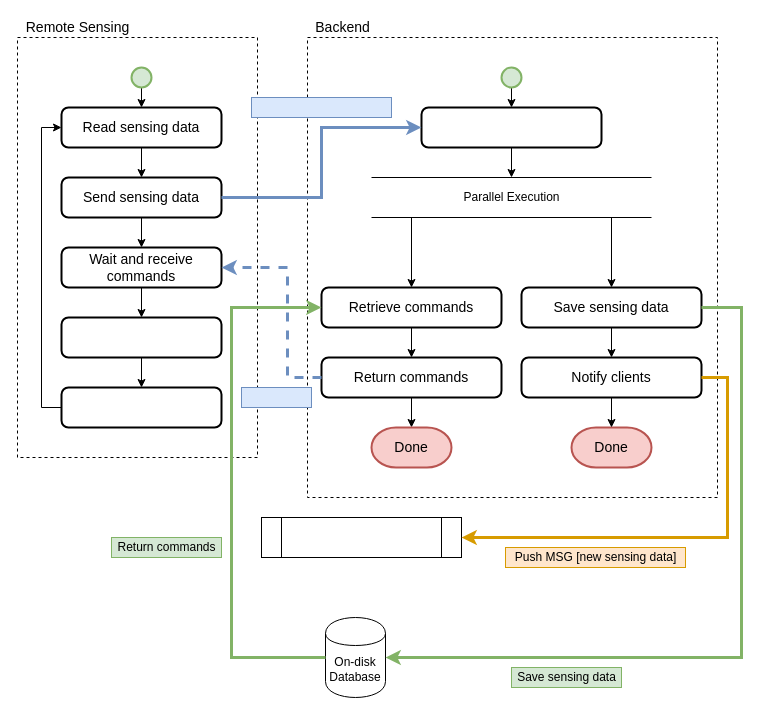
This 768x715 diagram has some shape labels left out. The centre of each missing label's shape, as x and y in pixels:
"Execute commands" belongs at (x=141, y=337).
"Message Queue" belongs at (x=361, y=537).
"Push new sensing data" belongs at (x=321, y=107).
"Receive sensing data" belongs at (x=511, y=127).
"Response" belongs at (x=276, y=397).
"Wait 1 second" belongs at (x=141, y=407).
